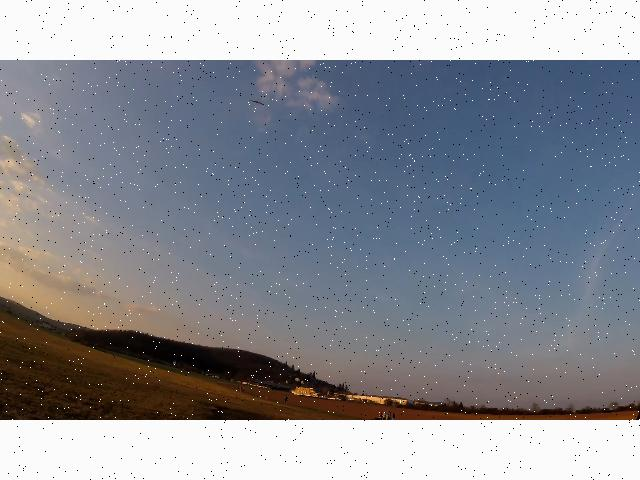Anti-Drone: (244, 91, 270, 113)
